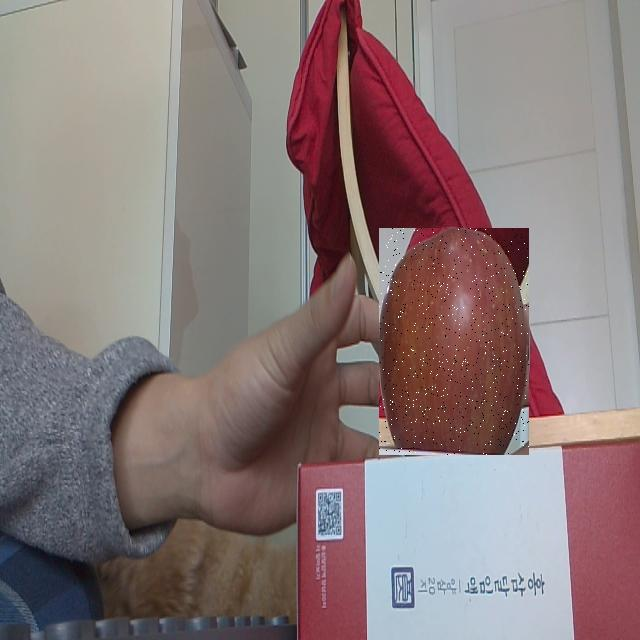apple: (379, 228, 529, 455)
